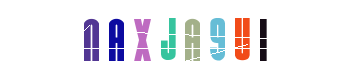1: (222, 0, 302, 80)
9: (158, 0, 238, 80)
A: (76, 0, 156, 80), (156, 0, 236, 80)
J: (140, 0, 220, 80)
N: (66, 0, 146, 80)
U: (202, 0, 282, 80)
X: (94, 0, 174, 80)
